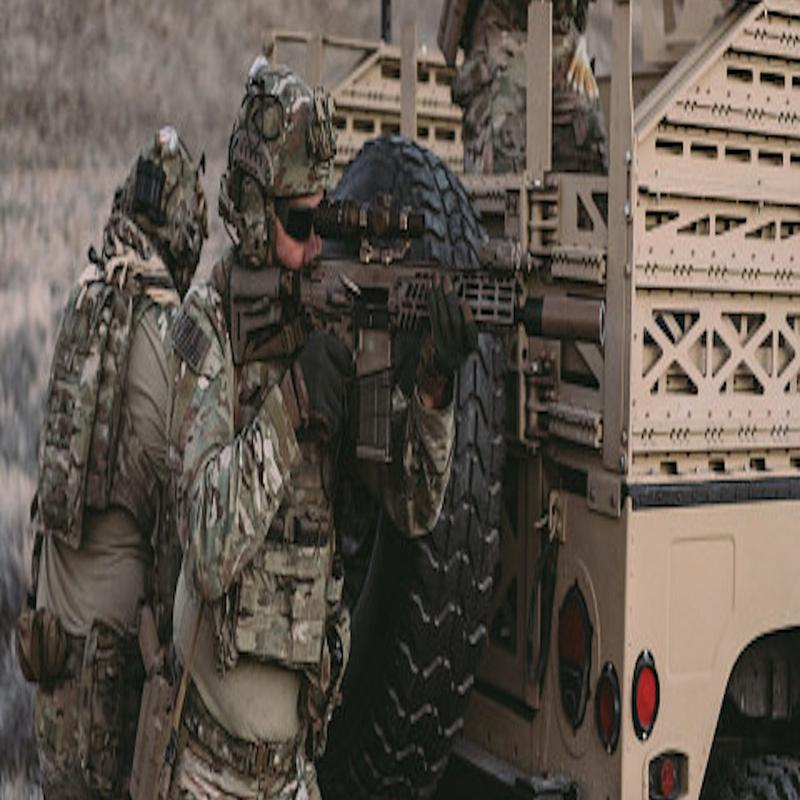GUN: (222, 247, 633, 475)
